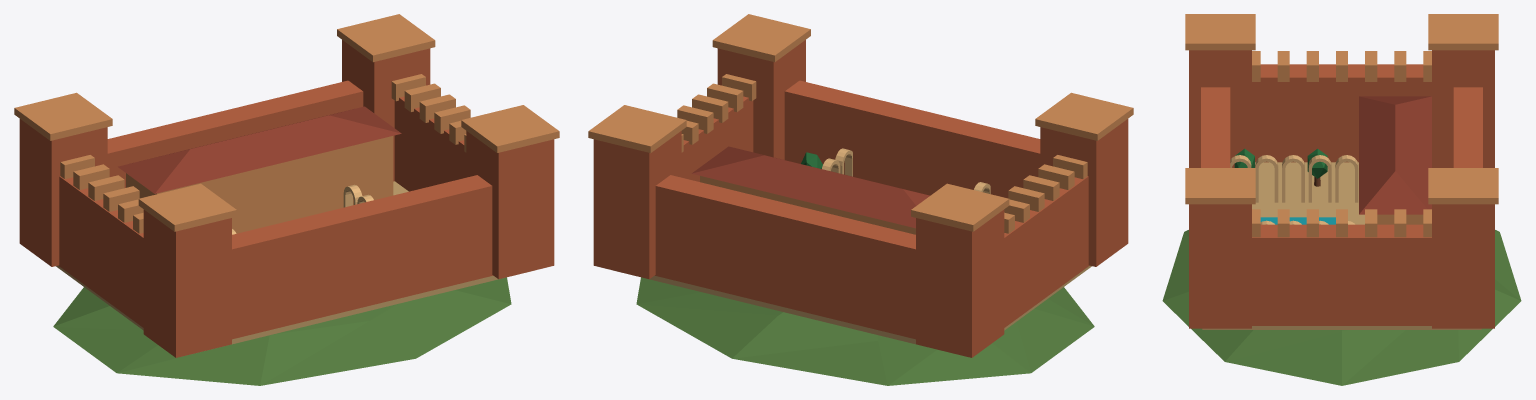
Rendered from alhambra.glb.
The picture shows the model from 3 angles, left to right: view 1: azimuth 30°, elevation 25°; view 2: azimuth 150°, elevation 25°; view 3: azimuth 270°, elevation 25°; orthographic projection. The views are drawn at different scales.
Visible parts, largest first — view 1: body_B77B55, body_CD9B71, base_8B9071, roof_895E45, battlements_CD9B71, base_C2A27A, arcades_D5AC80; view 2: body_B77B55, base_8B9071, body_CD9B71, roof_895E45, battlements_CD9B71, base_C2A27A, arcades_D5AC80; view 3: body_B77B55, base_8B9071, body_CD9B71, roof_895E45, base_C2A27A, battlements_CD9B71, arcades_D5AC80, landscape_657F58.
Part boxes in pixels (box(x1,y1,x2,y2)): body_B77B55: box(19, 40, 554, 357); body_CD9B71: box(14, 14, 559, 233); base_8B9071: box(53, 277, 511, 385); roof_895E45: box(118, 106, 401, 193); battlements_CD9B71: box(60, 74, 470, 233); base_C2A27A: box(56, 181, 525, 350); arcades_D5AC80: box(232, 184, 373, 234); body_B77B55: box(593, 40, 1128, 357); base_8B9071: box(636, 277, 1094, 385); body_CD9B71: box(588, 14, 1133, 234); roof_895E45: box(692, 146, 929, 228); battlements_CD9B71: box(677, 74, 1087, 233); base_C2A27A: box(622, 265, 1091, 350); arcades_D5AC80: box(822, 148, 990, 193); body_B77B55: box(1189, 50, 1494, 328); base_8B9071: box(1162, 230, 1521, 385); body_CD9B71: box(1185, 14, 1498, 224); roof_895E45: box(1359, 96, 1431, 214); base_C2A27A: box(1202, 162, 1481, 329); battlements_CD9B71: box(1252, 51, 1431, 237); arcades_D5AC80: box(1230, 155, 1358, 224); landscape_657F58: box(1234, 148, 1327, 178).
Size of the model in its own units: 1 by 0.415 by 0.7616.
